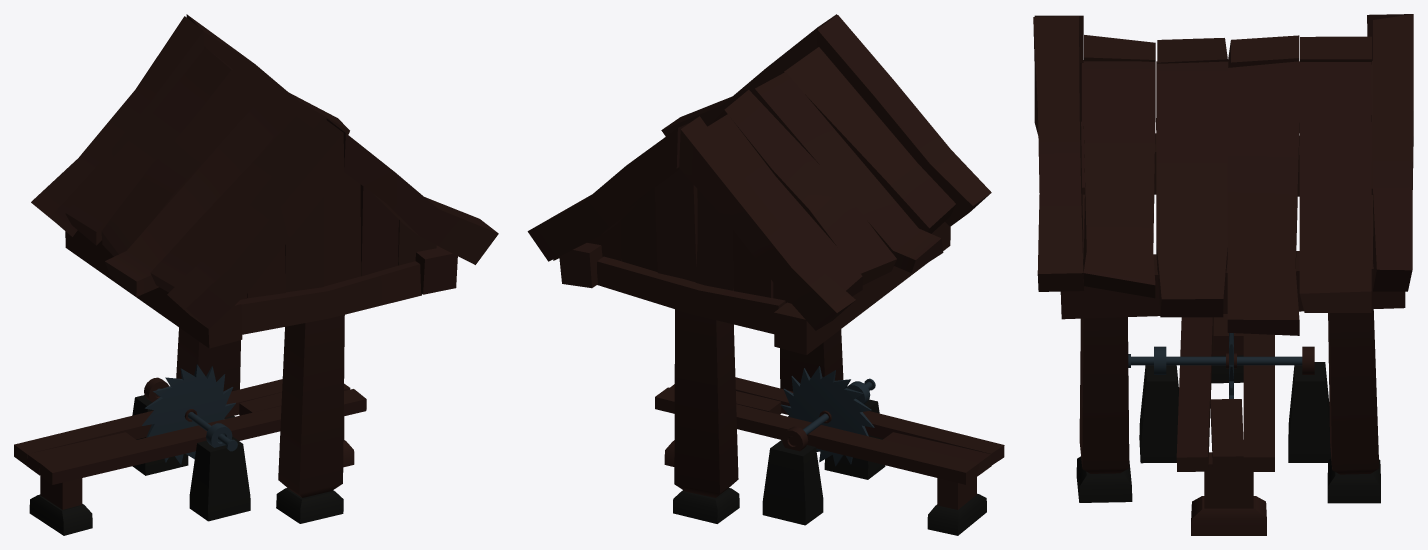
Rendered from Sawmill.fbx.
3 views of the same model, side by side, from view 1: azimuth 30°, elevation 25°; view 2: azimuth 150°, elevation 25°; view 3: azimuth 270°, elevation 25° (orthographic). The views are drawn at different scales.
Visible parts, largest first — view 1: Box008, Box003, Box013, Box014, Box015, Box010, Box009, Box004, Box037, Box012, Box044, Star001 (+16 smaller); view 2: Box034, Box010, Box012, Box014, Box013, Box008, Box011, Box039, Box032, Box015, Box027, Box045 (+16 smaller); view 3: Box017, Box016, Box018, Box019, Box009, Box011, Box034, Box003, Box037, Box039, Box007, Box045 (+14 smaller).
Boxes of the visible parts, <box> form: Box008: <box>167,118,344,328</box>; Box003: <box>278,314,344,497</box>; Box013: <box>105,90,294,296</box>; Box014: <box>101,66,279,256</box>; Box015: <box>65,46,232,245</box>; Box010: <box>31,16,203,236</box>; Box009: <box>326,118,498,264</box>; Box004: <box>238,261,421,334</box>; Box037: <box>40,389,366,484</box>; Box012: <box>150,116,312,292</box>; Box044: <box>189,436,250,521</box>; Star001: <box>142,364,235,464</box>; Box034: <box>674,189,738,497</box>; Box010: <box>679,116,855,330</box>; Box012: <box>781,47,955,233</box>; Box014: <box>713,90,896,285</box>; Box013: <box>752,72,943,272</box>; Box008: <box>817,15,991,226</box>; Box011: <box>527,123,689,261</box>; Box039: <box>655,387,978,484</box>; Box032: <box>597,256,785,333</box>; Box015: <box>707,114,862,296</box>; Box027: <box>654,169,697,282</box>; Box045: <box>762,440,823,525</box>; Box017: <box>1227,61,1299,335</box>; Box016: <box>1299,61,1371,312</box>; Box018: <box>1156,61,1228,317</box>; Box019: <box>1083,61,1155,298</box>; Box009: <box>1033,16,1084,291</box>; Box011: <box>1373,14,1413,291</box>; Box034: <box>1328,309,1379,474</box>; Box003: <box>1079,317,1129,473</box>; Box037: <box>1176,317,1213,471</box>; Box039: <box>1243,333,1274,471</box>; Box007: <box>1060,251,1405,319</box>; Box045: <box>1288,362,1331,462</box>.
Bounding box in the file's own units: 163 × 161 × 116.
